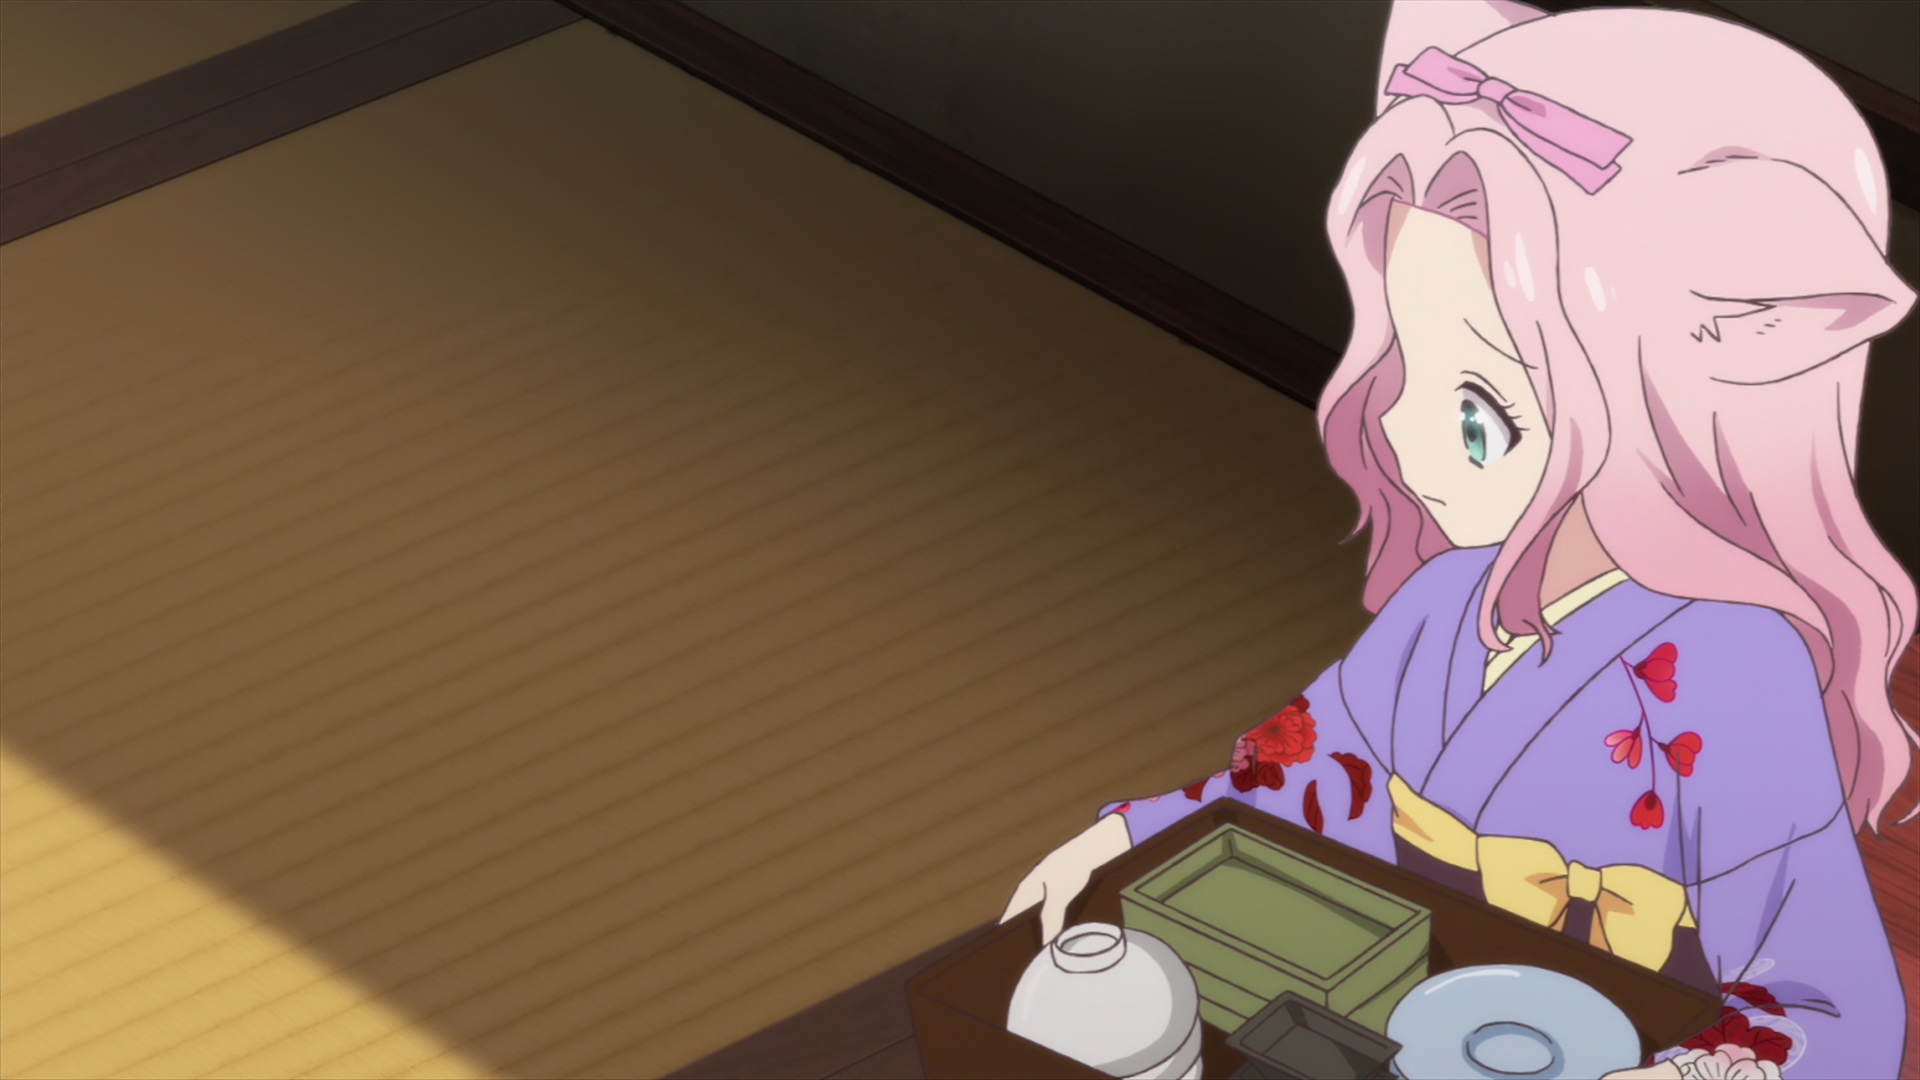莲: (997, 1, 1920, 1080)
